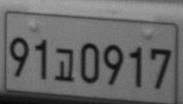0: (80, 41, 99, 84)
1: (127, 46, 148, 87), (32, 39, 52, 79)
7: (150, 47, 171, 89)
9: (102, 43, 123, 85), (9, 36, 29, 77)
고: (54, 47, 74, 81)
